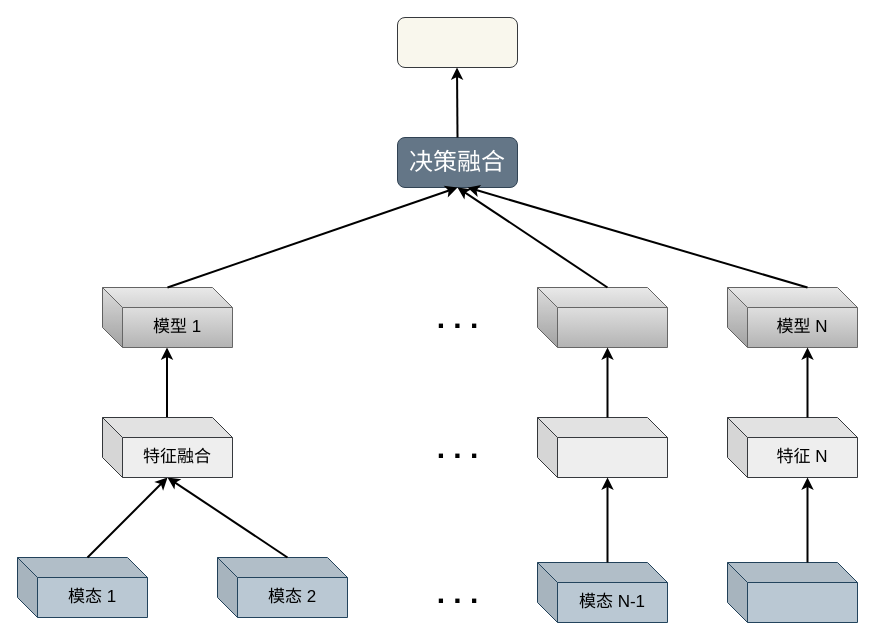
The diagram is 875 pixels wide and 640 high, and some of its shapes have lost their labels. The centre of each missing label's shape, as x and y in pixels:
"模型 N-1" belongs at point 602,317.
"模态 N" belongs at point 792,592.
"特征 N-1" belongs at point 602,447.
"输出结果" belongs at point 457,42.
